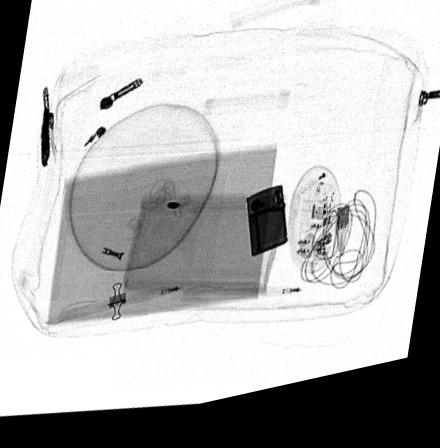Lighter: (246, 197, 289, 268)
